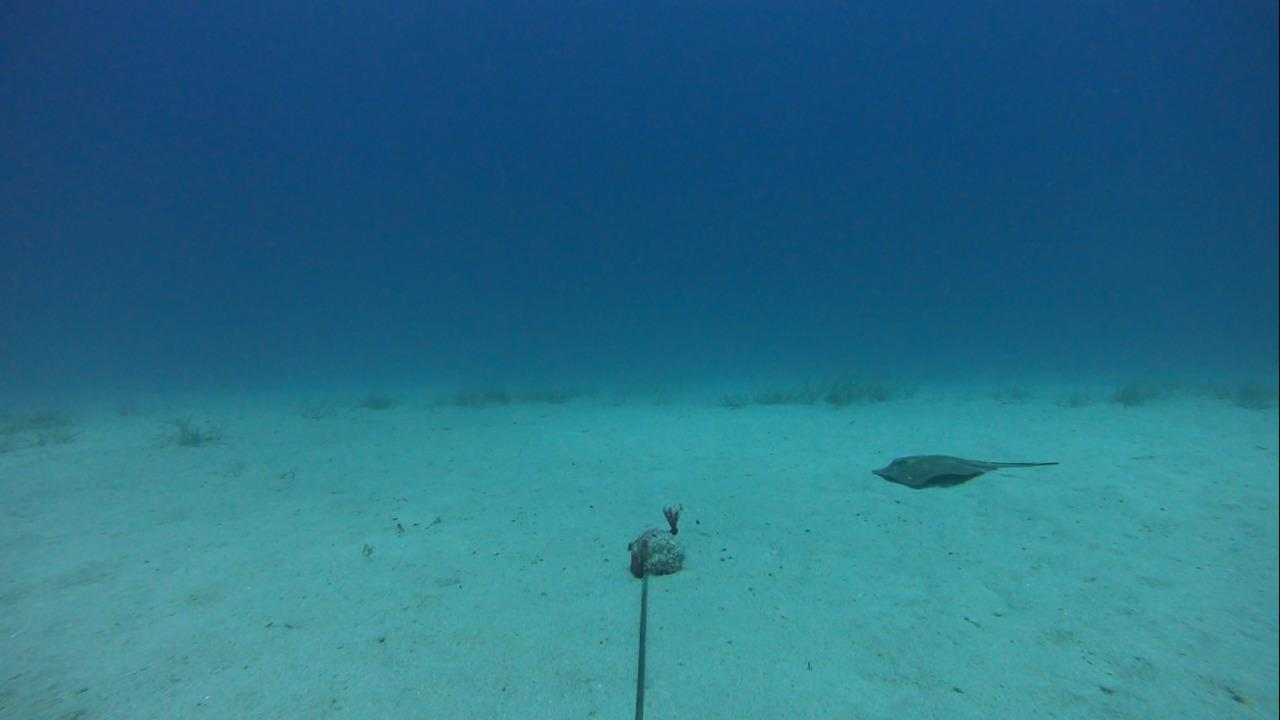myliobatis: (870, 446, 1065, 497)
